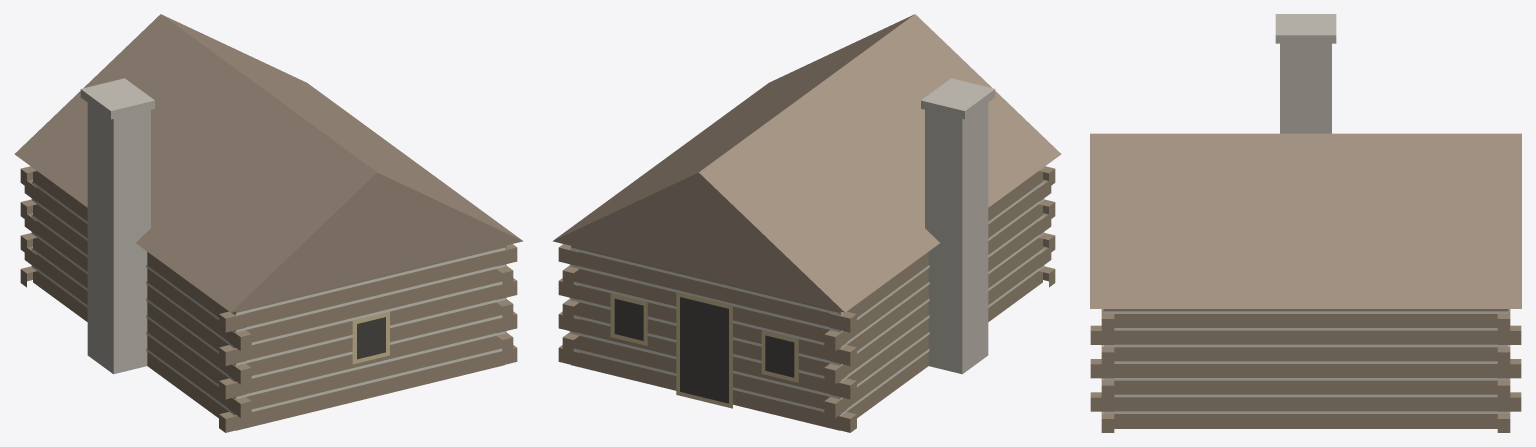
Rendered from recon_1835_blk_randolph_dearborn_d1_16__inferred_1835.glb.
The picture shows the model from 3 angles, left to right: view 1: azimuth 30°, elevation 25°; view 2: azimuth 150°, elevation 25°; view 3: azimuth 270°, elevation 25°; orthographic projection.
Parts seen in each view (by area): view 1: recon_1835_blk_randolph_dearborn_d1_16__inferred_1835; view 2: recon_1835_blk_randolph_dearborn_d1_16__inferred_1835; view 3: recon_1835_blk_randolph_dearborn_d1_16__inferred_1835.
Boxes of the visible parts, left/top/right/bottom form: recon_1835_blk_randolph_dearborn_d1_16__inferred_1835: left=14, top=14, right=523, bottom=432; recon_1835_blk_randolph_dearborn_d1_16__inferred_1835: left=552, top=14, right=1061, bottom=432; recon_1835_blk_randolph_dearborn_d1_16__inferred_1835: left=1090, top=14, right=1521, bottom=432.
Size of the model in its own units: 6.81 by 5.47 by 7.99.
